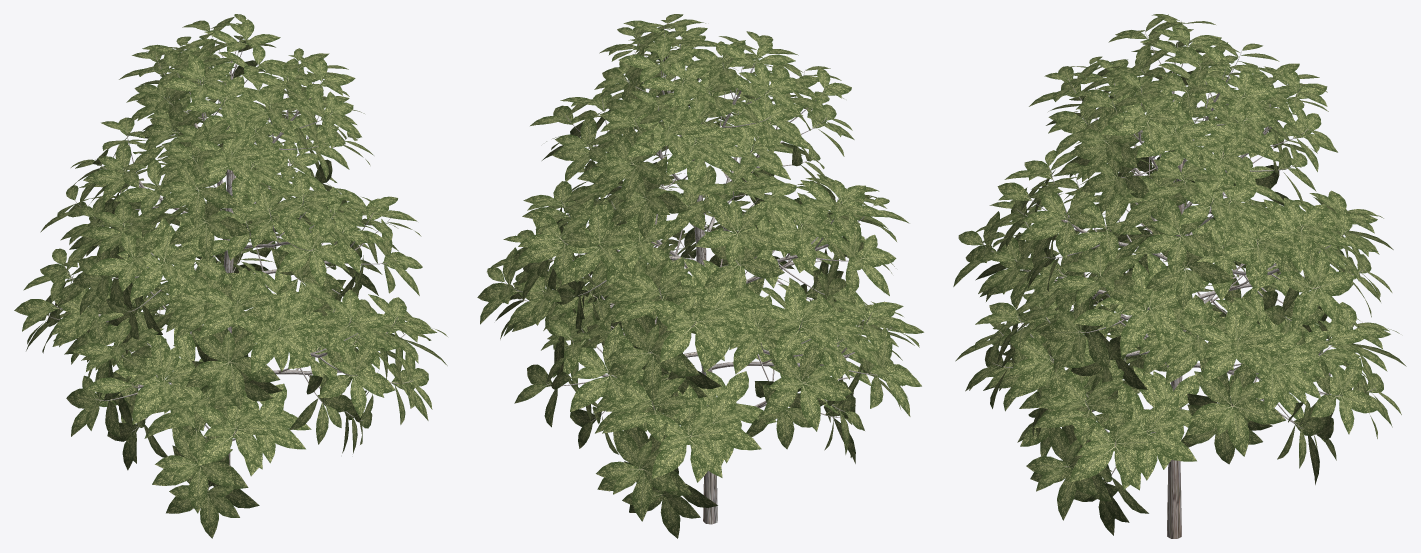
3 views of the same model, side by side, from view 1: azimuth 30°, elevation 25°; view 2: azimuth 150°, elevation 25°; view 3: azimuth 270°, elevation 25° (orthographic). The views are drawn at different scales.
Parts seen in each view (by area): view 1: Laurel01.obj_2.Shape; view 2: Laurel01.obj_2.Shape; view 3: Laurel01.obj_2.Shape.
Boxes of the visible parts, x1,y1,x2,y2 form: Laurel01.obj_2.Shape: (14,14,447,538); Laurel01.obj_2.Shape: (477,14,923,538); Laurel01.obj_2.Shape: (953,14,1406,538).
Bounding box in the file's own units: 1.36 × 1.64 × 1.33.
2 materials, 2 textured.
